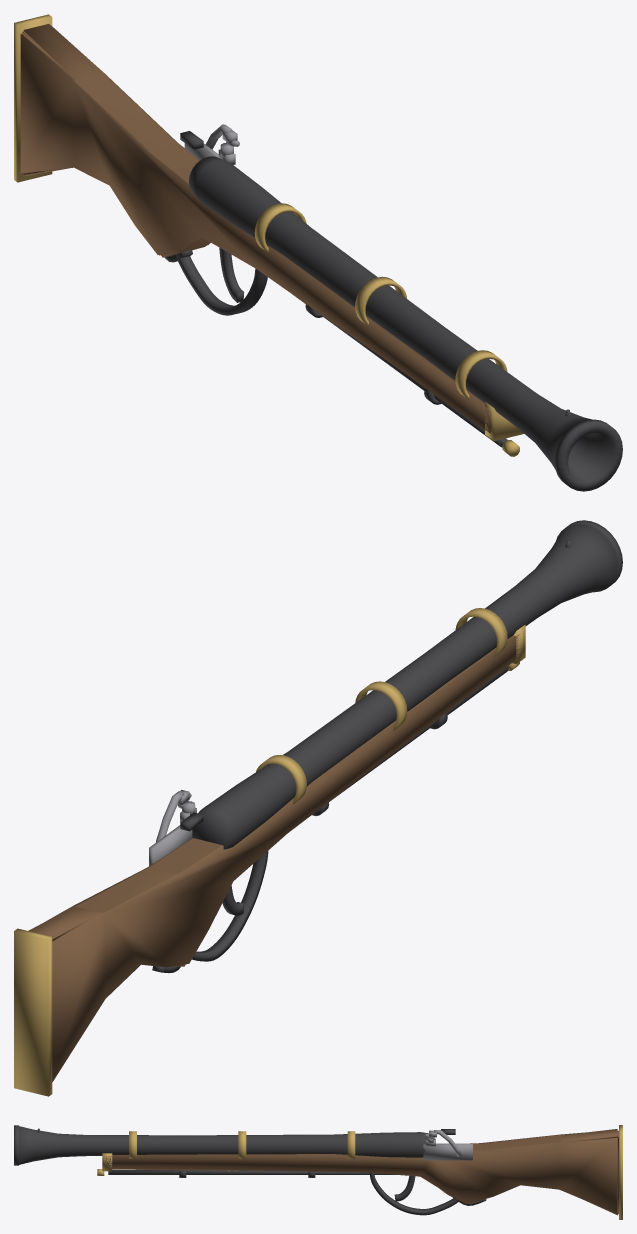
File: Musket.fbx
The picture shows the model from 3 angles, top to bottom: view 1: azimuth 30°, elevation 25°; view 2: azimuth 150°, elevation 25°; view 3: azimuth 270°, elevation 25°; orthographic projection. The views are drawn at different scales.
Visible parts, largest first — view 1: musket_stock, musket_barrel, musket_fittings, musket_trigger, musket_bands, musket_lock, musket_ramrod; view 2: musket_stock, musket_barrel, musket_fittings, musket_bands, musket_trigger, musket_lock, musket_ramrod; view 3: musket_stock, musket_barrel, musket_ramrod, musket_lock, musket_trigger, musket_bands, musket_fittings.
Boxes of the visible parts, left/top/right/bottom form: musket_stock: left=20, top=24, right=491, bottom=433; musket_barrel: left=180, top=131, right=622, bottom=491; musket_fittings: left=14, top=14, right=523, bottom=456; musket_trigger: left=164, top=247, right=267, bottom=315; musket_bands: left=254, top=203, right=507, bottom=399; musket_lock: left=184, top=124, right=239, bottom=164; musket_ramrod: left=293, top=295, right=507, bottom=447; musket_stock: left=28, top=634, right=521, bottom=1081; musket_barrel: left=180, top=520, right=622, bottom=849; musket_fittings: left=14, top=624, right=525, bottom=1096; musket_bands: left=256, top=608, right=507, bottom=804; musket_trigger: left=152, top=850, right=268, bottom=973; musket_lock: left=149, top=790, right=196, bottom=865; musket_ramrod: left=312, top=666, right=508, bottom=815; musket_stock: left=105, top=1129, right=618, bottom=1215; musket_barrel: left=14, top=1125, right=455, bottom=1165; musket_ramrod: left=108, top=1170, right=395, bottom=1177; musket_lock: left=423, top=1130, right=472, bottom=1160; musket_trigger: left=369, top=1173, right=486, bottom=1215; musket_bands: left=129, top=1131, right=355, bottom=1158; musket_fittings: left=97, top=1125, right=622, bottom=1219.
Bounding box in the file's own units: 0.081 × 0.2038 × 1.23.
